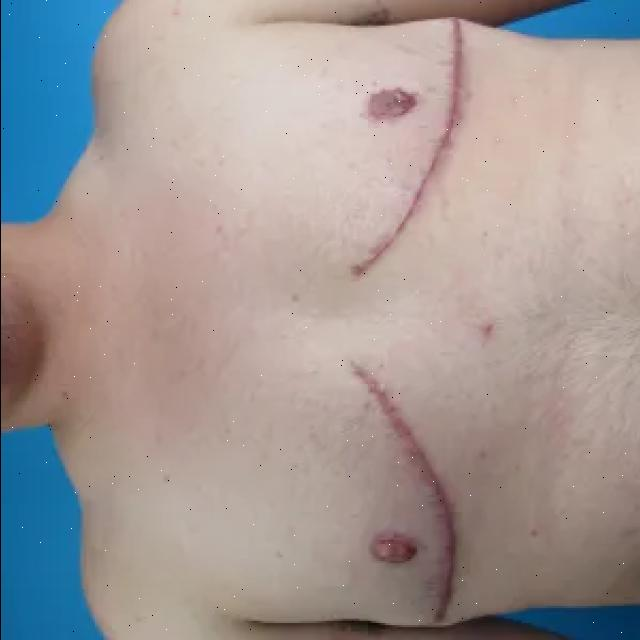Seno herido: (250, 333, 502, 635), (250, 11, 502, 308)
